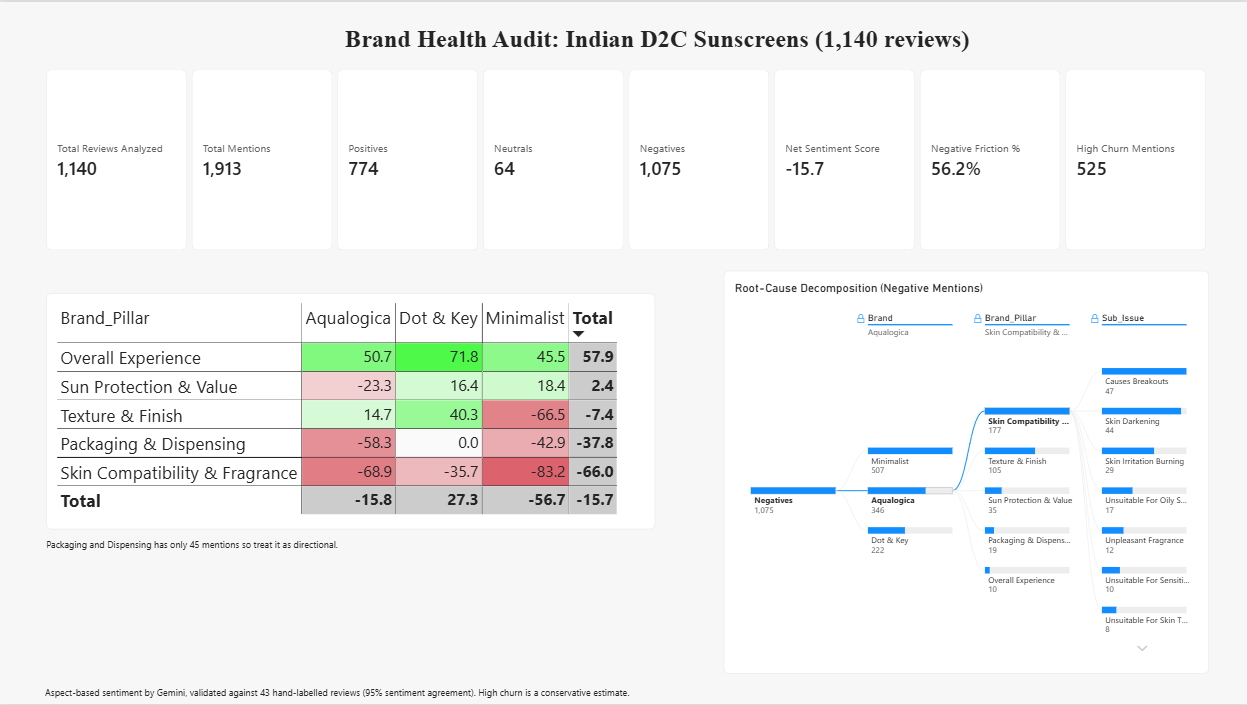

What the dashboard file says about the page in this screenshot:
{"tool":"powerbi","page":{"name":"Page 1","canvas":[1920,1080],"ordinal":0},"visuals":[{"type":"pivotTable","fields":{"Columns":["enriched_beauty_sentiment.Brand"],"Rows":["enriched_beauty_sentiment.Brand_Pillar"],"Values":["enriched_beauty_sentiment.Net Sentiment Score"]},"box":[71.2,448.1,936.5,363.5],"z":0},{"type":"decompositionTreeVisual","title":"Root-Cause Decomposition (Negative Mentions)","fields":{"Analyze":["enriched_beauty_sentiment.Negatives"],"ExplainBy":["enriched_beauty_sentiment.Brand","enriched_beauty_sentiment.Brand_Pillar","enriched_beauty_sentiment.Sub_Issue"]},"box":[1114,414,746,620],"z":1000},{"type":"textbox","box":[530.8,34.6,1117.3,50],"z":2000},{"type":"textbox","box":[70,1052.5,1020,27.5],"z":3000},{"type":"cardVisual","fields":{"Data":["enriched_beauty_sentiment.Total Reviews Analyzed","enriched_beauty_sentiment.Total Mentions","enriched_beauty_sentiment.Positives","enriched_beauty_sentiment.Neutrals","enriched_beauty_sentiment.Negatives","enriched_beauty_sentiment.Net Sentiment Score","enriched_beauty_sentiment.Negative Friction %","enriched_beauty_sentiment.High Churn Mentions"]},"box":[71.2,103.8,1788.5,278.8],"z":4000},{"type":"textbox","box":[71.2,825,457.7,26.9],"z":5000}]}

Visuals, with their boxes in screenshot pixels (x1, y1, x2, y2), scaled from the page's 1920x1080 canvas onto the 1247x705 screenshot:
pivotTable - enriched_beauty_sentiment.Brand x enriched_beauty_sentiment.Brand_Pillar: l=46, t=293, r=654, b=530
"Root-Cause Decomposition (Negative Mentions)" decompositionTreeVisual: l=724, t=270, r=1208, b=675
textbox: l=345, t=23, r=1070, b=55
textbox: l=45, t=687, r=708, b=704
cardVisual - enriched_beauty_sentiment.Total Reviews Analyzed x enriched_beauty_sentiment.Total Mentions: l=46, t=68, r=1208, b=250
textbox: l=46, t=539, r=344, b=556
